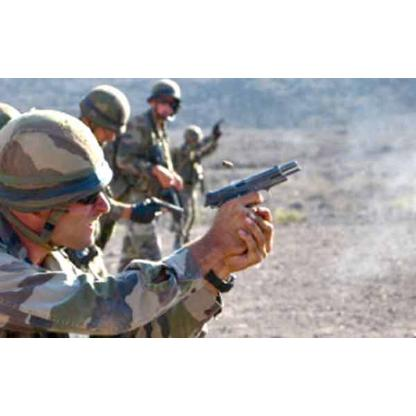gun: (202, 157, 301, 253), (134, 193, 186, 225)
